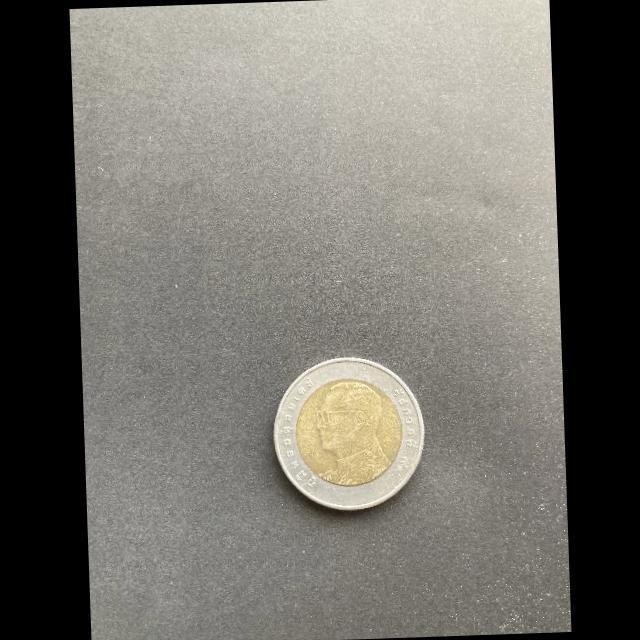10 Bath: (273, 356, 429, 516)
